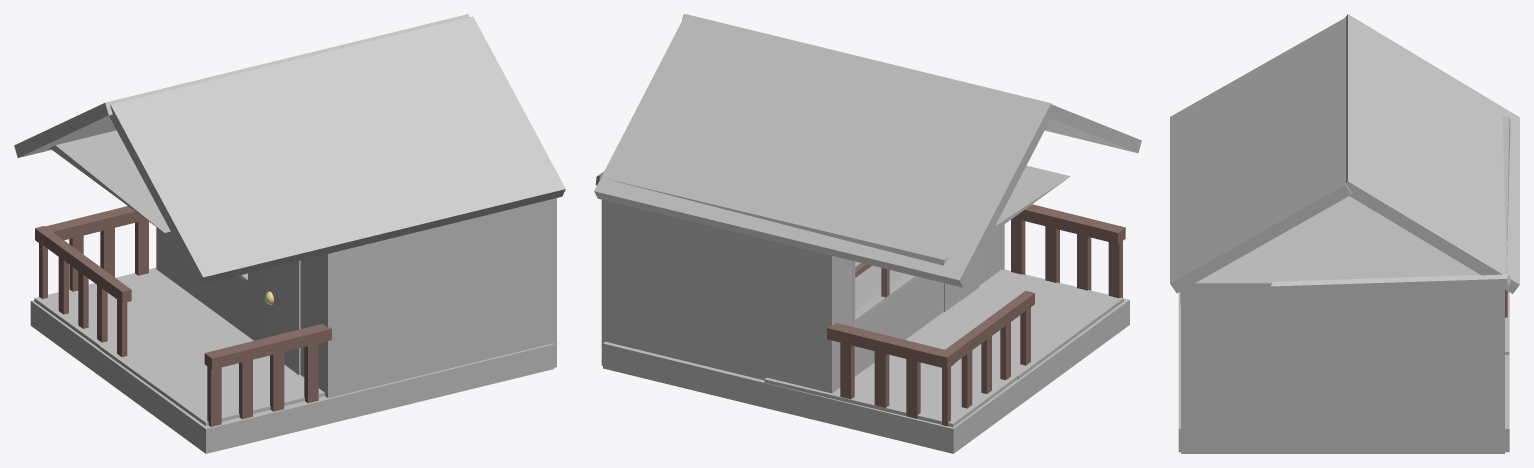
The model's file is house.gltf.
The picture shows the model from 3 angles, left to right: view 1: azimuth 30°, elevation 25°; view 2: azimuth 150°, elevation 25°; view 3: azimuth 270°, elevation 25°; orthographic projection. The views are drawn at different scales.
Size of the model in its own units: 14.89 by 11.16 by 12.98.
